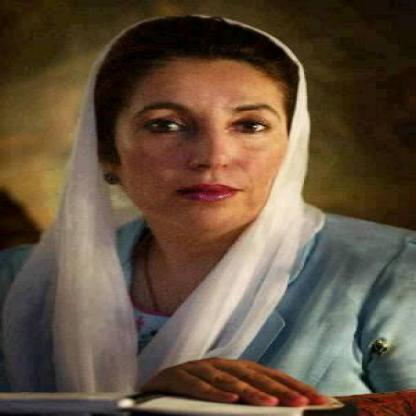face: (110, 25, 297, 236)
